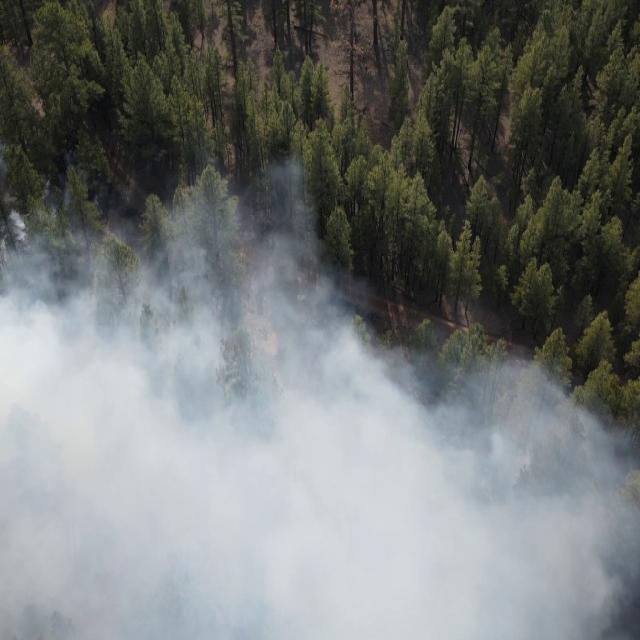smoke: (0, 160, 317, 640), (317, 421, 640, 640), (316, 357, 592, 421), (317, 243, 371, 356)
